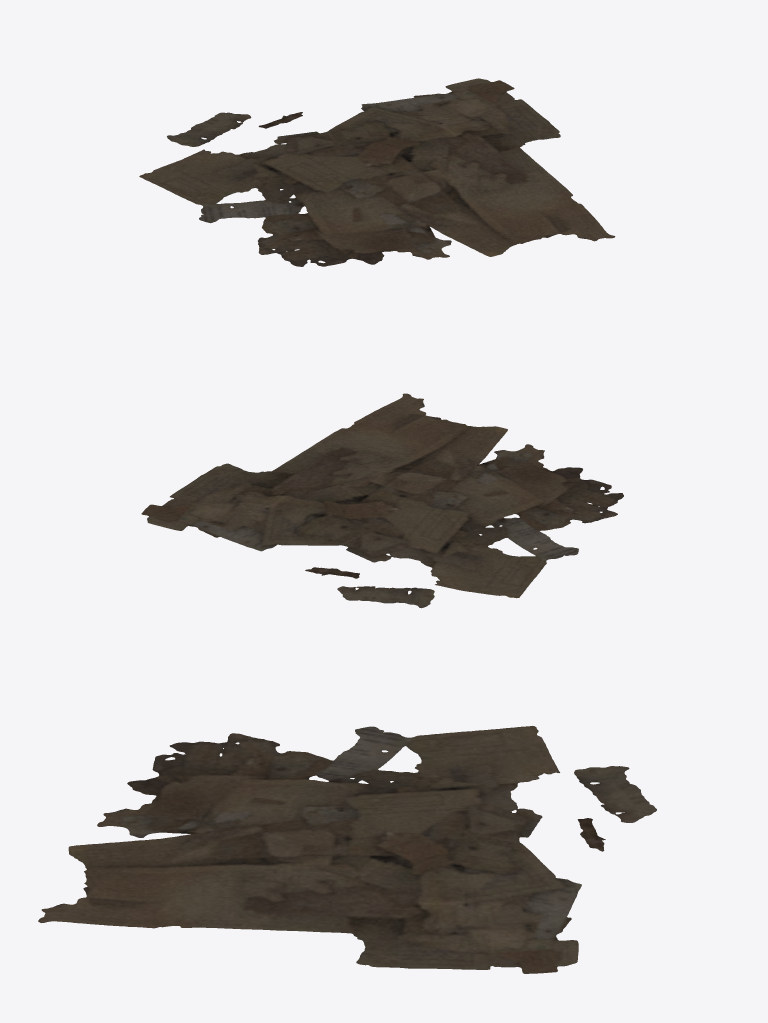
Rendered from trash_3.obj.
The picture shows the model from 3 angles, top to bottom: view 1: azimuth 30°, elevation 25°; view 2: azimuth 150°, elevation 25°; view 3: azimuth 270°, elevation 25°; orthographic projection. The views are drawn at different scales.
Visible parts, largest first — view 1: trash_3; view 2: trash_3; view 3: trash_3.
Boxes of the visible parts, box(x1,y1,x2,y2) form: trash_3: box(139, 78, 615, 266); trash_3: box(141, 393, 623, 608); trash_3: box(38, 726, 656, 973).
Size of the model in its own units: 1 by 0.0147 by 1.
